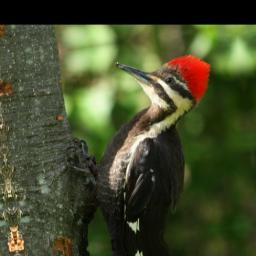Woodpecker: (57, 48, 230, 249)
